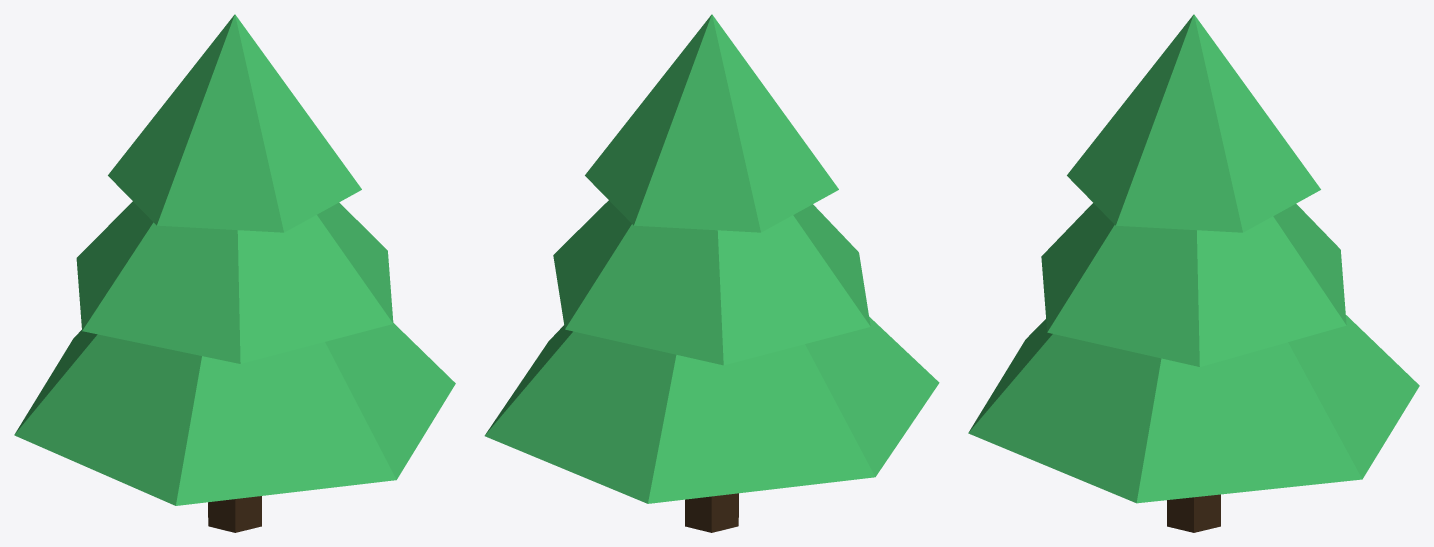
Rendered from tree.fbx.
The picture shows the model from 3 angles, left to right: view 1: azimuth 30°, elevation 25°; view 2: azimuth 150°, elevation 25°; view 3: azimuth 270°, elevation 25°; orthographic projection.
Parts seen in each view (by area): view 1: cone_2, cone_1, cone, cylinder; view 2: cone_2, cone_1, cone, cylinder; view 3: cone_2, cone_1, cone, cylinder.
Part boxes in pixels (x1,y1,x2,y2): cone_2: [14, 323, 455, 505]; cone_1: [76, 201, 393, 363]; cone: [108, 14, 361, 232]; cylinder: [208, 496, 261, 532]; cone_2: [484, 316, 939, 503]; cone_1: [553, 200, 870, 365]; cone: [585, 14, 838, 232]; cylinder: [685, 493, 738, 532]; cone_2: [968, 315, 1419, 503]; cone_1: [1041, 203, 1346, 366]; cone: [1067, 14, 1320, 232]; cylinder: [1167, 494, 1220, 532].
Size of the model in its own units: 179 by 225 by 182.
1 material, 1 textured.
